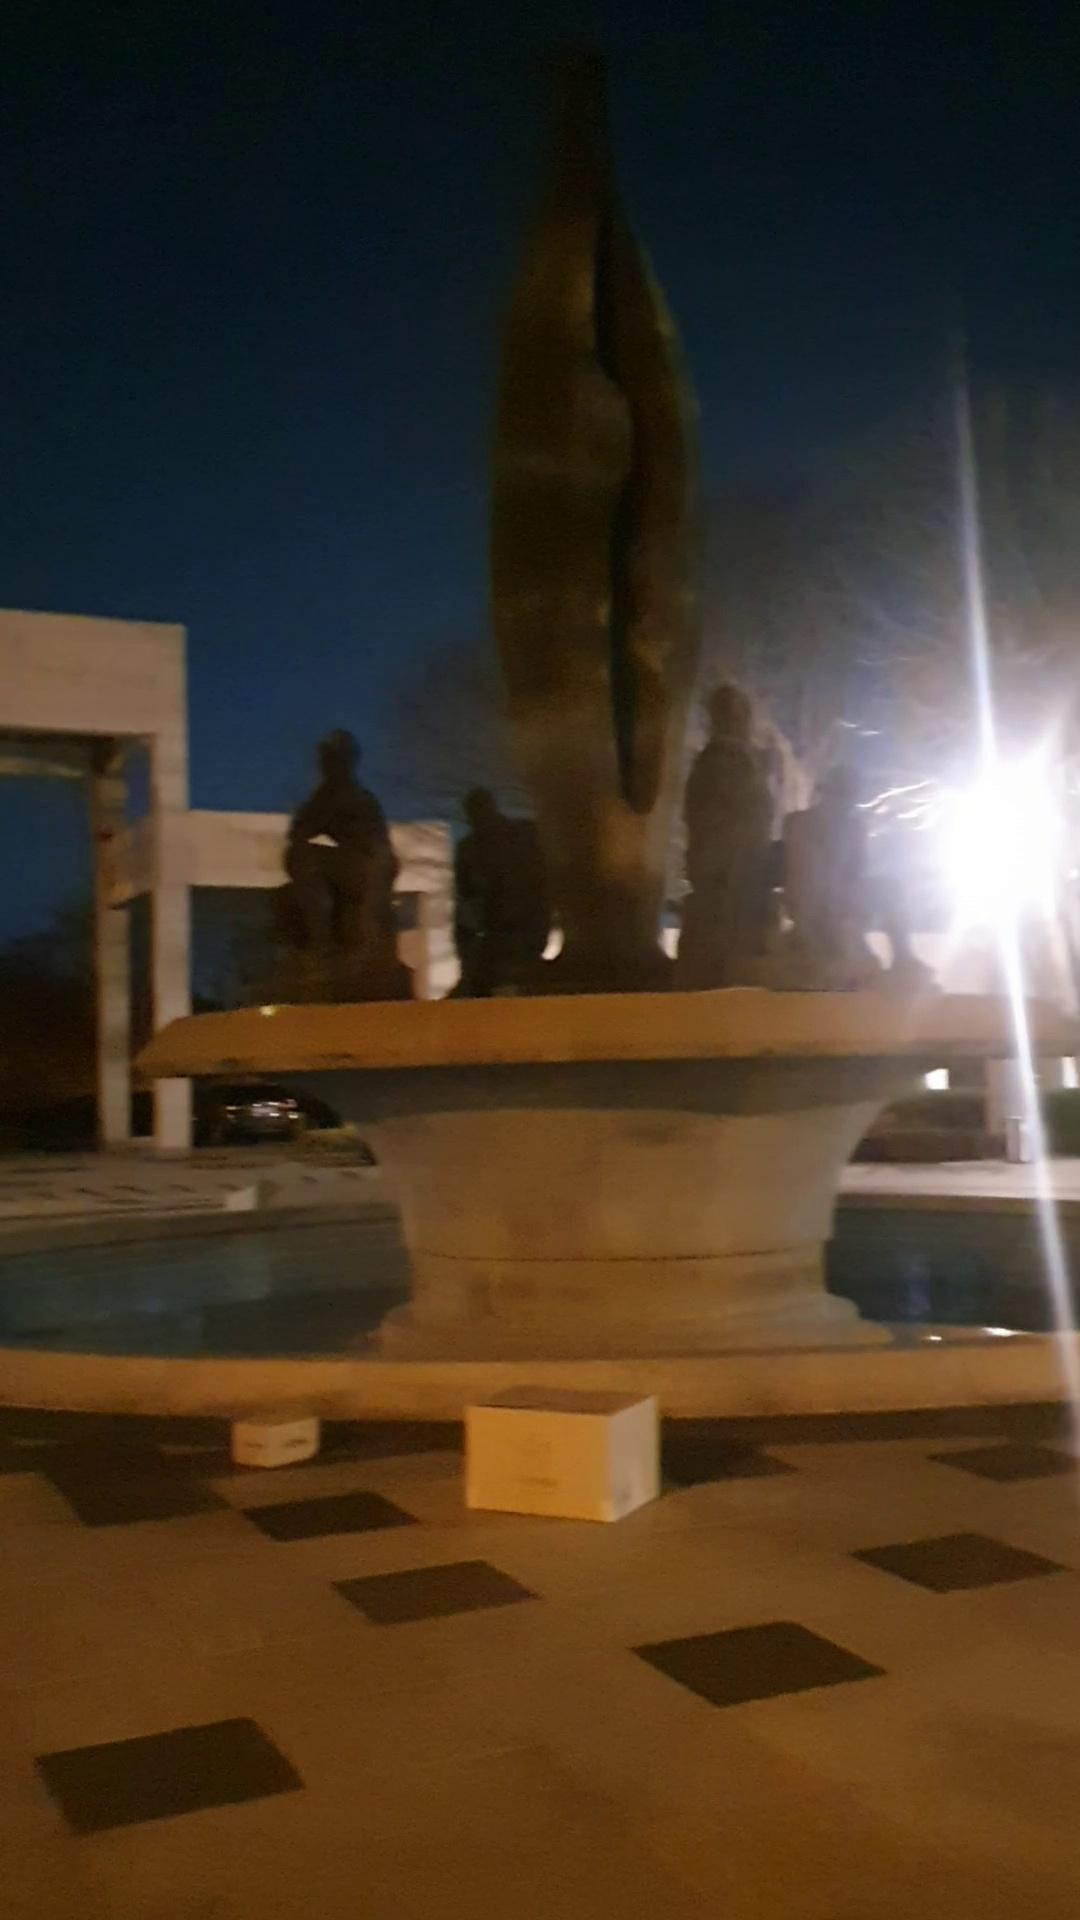Box: (454, 1365, 673, 1545), (214, 1398, 324, 1484)
